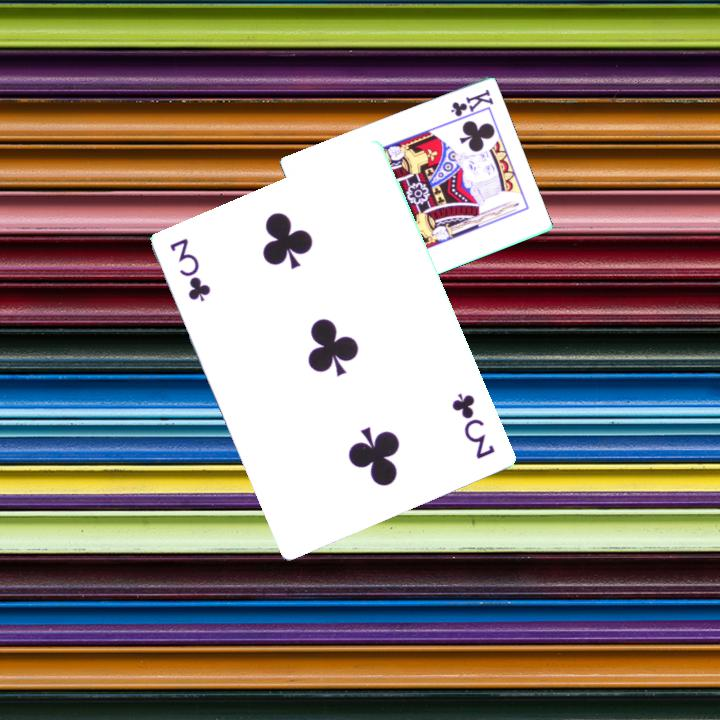3c: (449, 389, 499, 462), (167, 234, 215, 305)
Kc: (447, 86, 496, 120)
